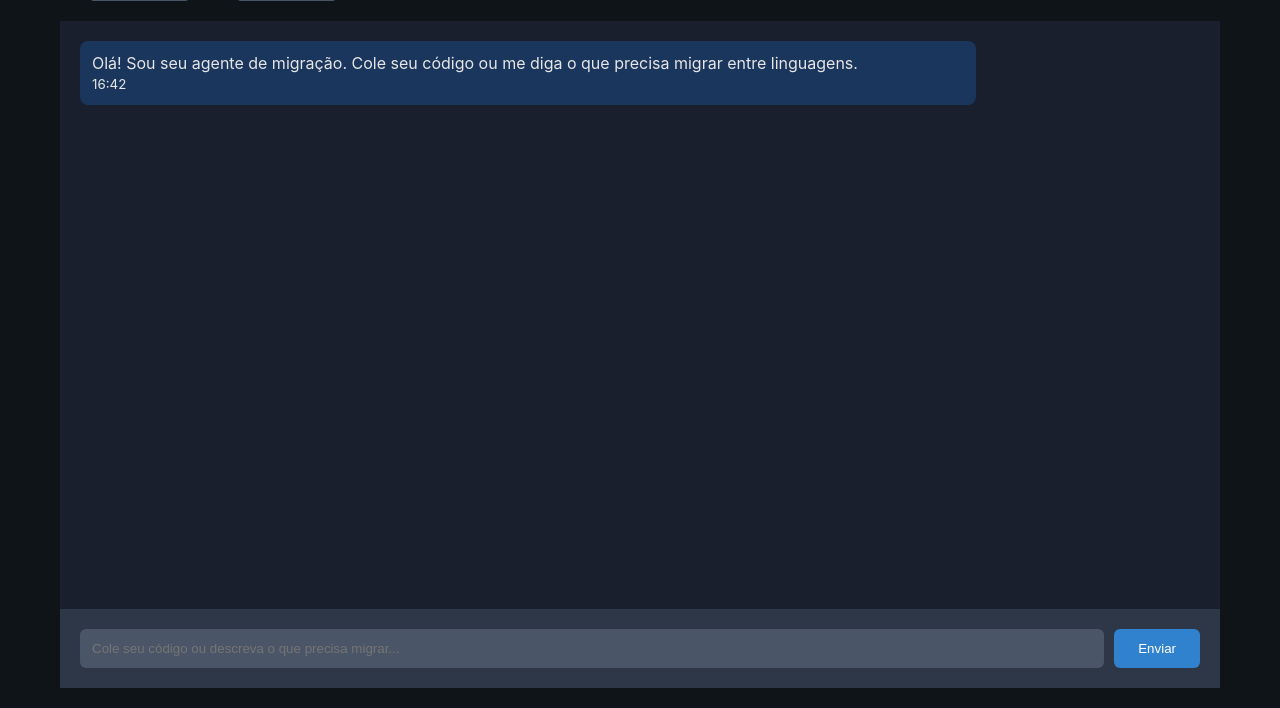
Scenario: Dev Migration Agent › should disable input while loading
(page scrolled)
Type "test code" into the field with placeholder "Cole seu código ou descreva o que precisa migrar..." at (592, 649), box [80,629,1104,668]
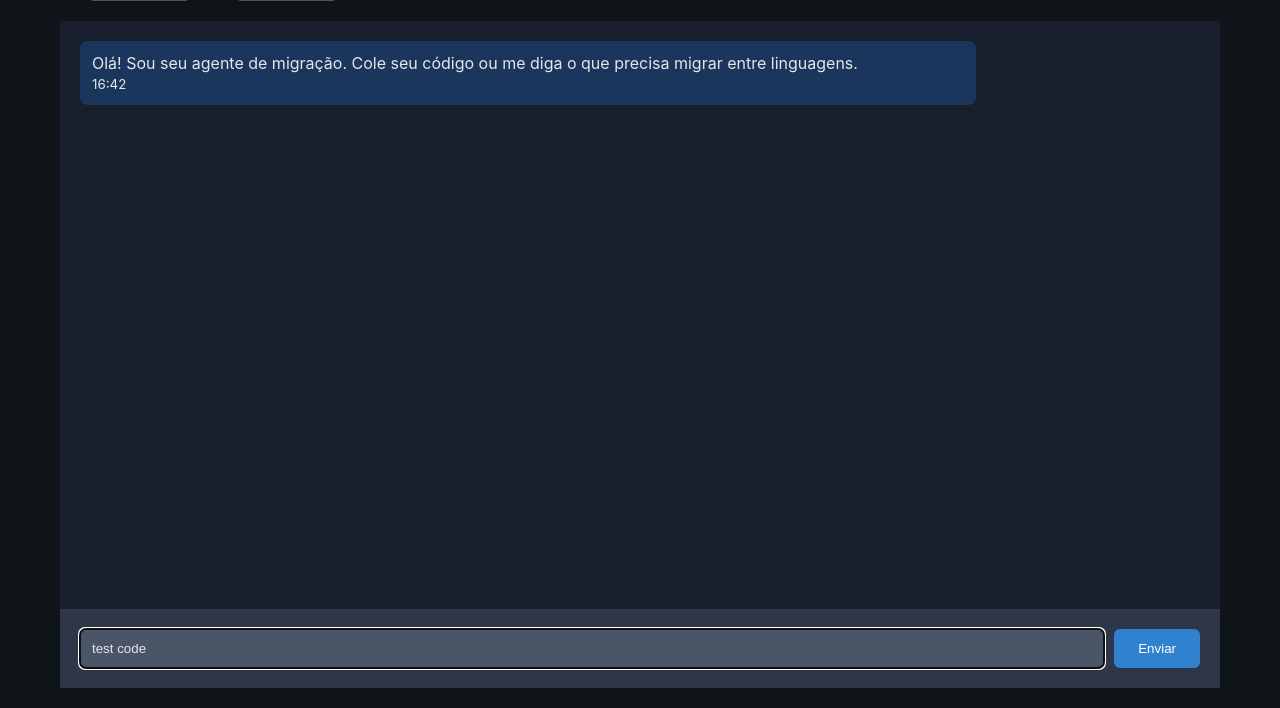
Click the button "Enviar" at (1157, 649), box [1114,629,1200,668]
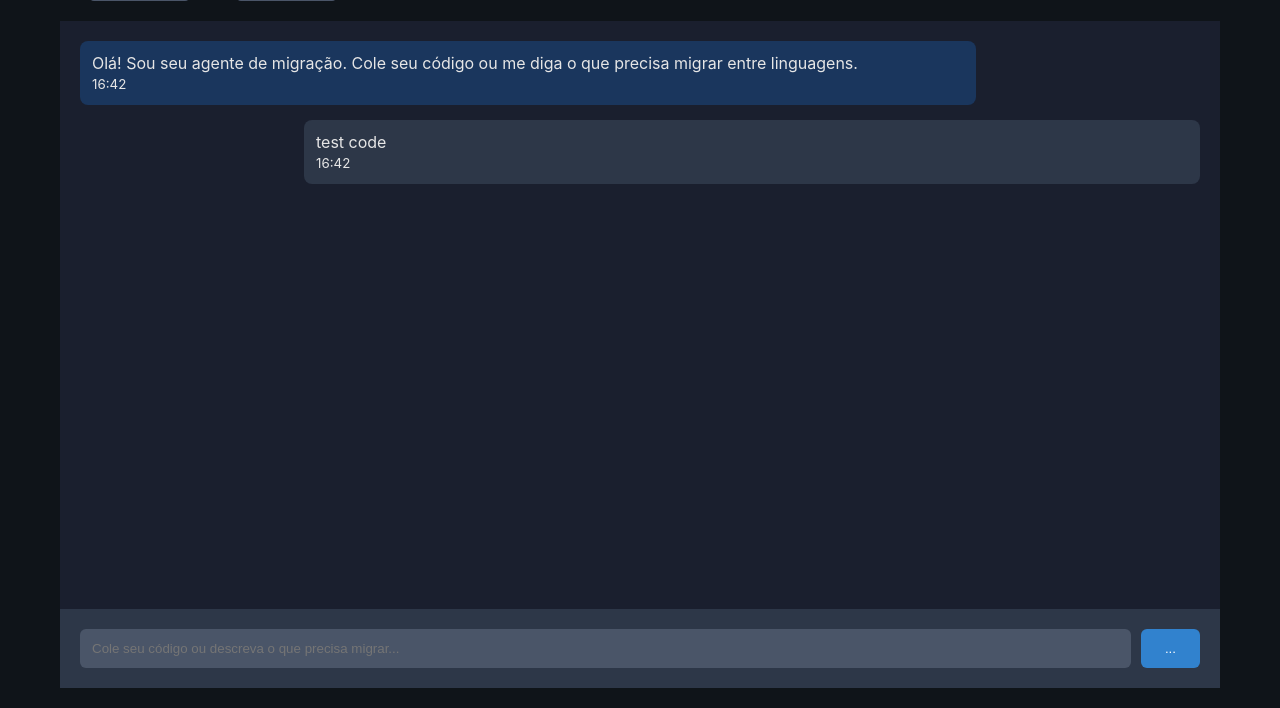
Expected: the button "..." is shown, [1141,629,1200,668]
Result: the field with placeholder "Cole seu código ou descreva o que precisa migrar..." is disabled at [80,629,1131,668]
